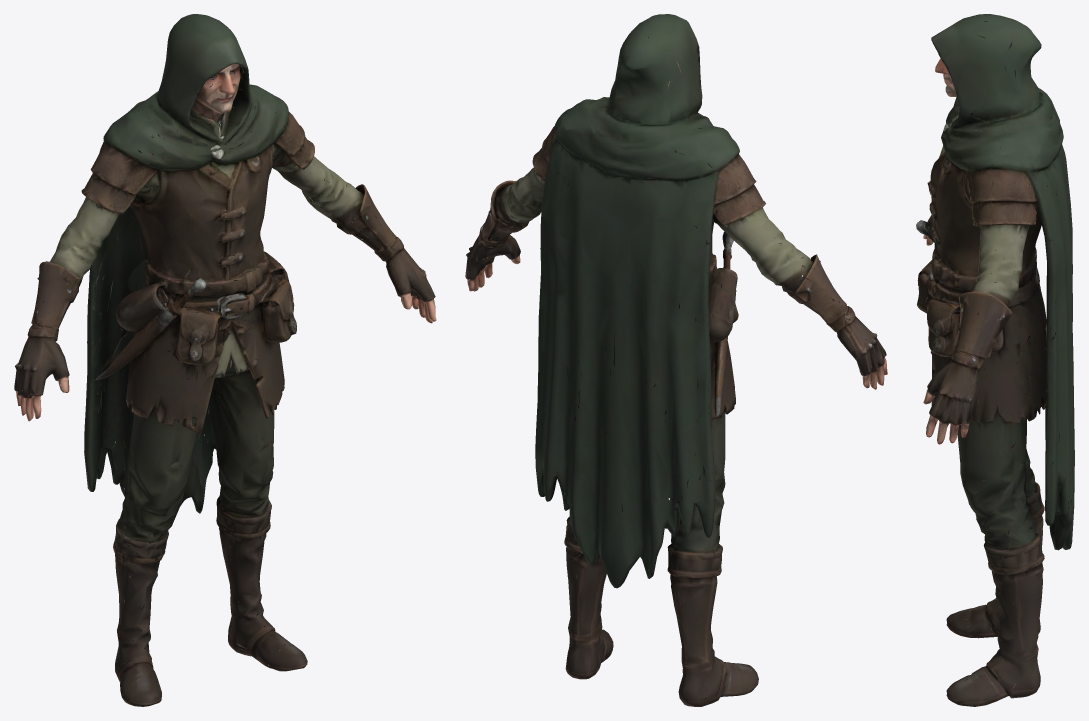
File: personagem pescador homem 4.glb
The picture shows the model from 3 angles, left to right: view 1: azimuth 30°, elevation 25°; view 2: azimuth 150°, elevation 25°; view 3: azimuth 270°, elevation 25°; orthographic projection.
Visible parts, largest first — view 1: Object_5, Object_4, Object_6, Object_7; view 2: Object_4, Object_7, Object_6, Object_5; view 3: Object_6, Object_4, Object_5, Object_7.
Boxes of the visible parts, x1=… form: Object_5: x1=17, y1=14, x2=435, y2=706; Object_4: x1=14, y1=63, x2=436, y2=682; Object_6: x1=16, y1=15, x2=397, y2=689; Object_7: x1=36, y1=14, x2=376, y2=696; Object_4: x1=465, y1=40, x2=886, y2=706; Object_7: x1=468, y1=16, x2=853, y2=696; Object_6: x1=467, y1=25, x2=869, y2=706; Object_5: x1=468, y1=14, x2=887, y2=694; Object_6: x1=961, y1=20, x2=1072, y2=696; Object_4: x1=916, y1=66, x2=1074, y2=698; Object_5: x1=924, y1=14, x2=1017, y2=706; Object_7: x1=968, y1=17, x2=1074, y2=704.
Bounding box in the file's own units: 1.17 × 1.8 × 0.3991.
1 material, 1 textured.
